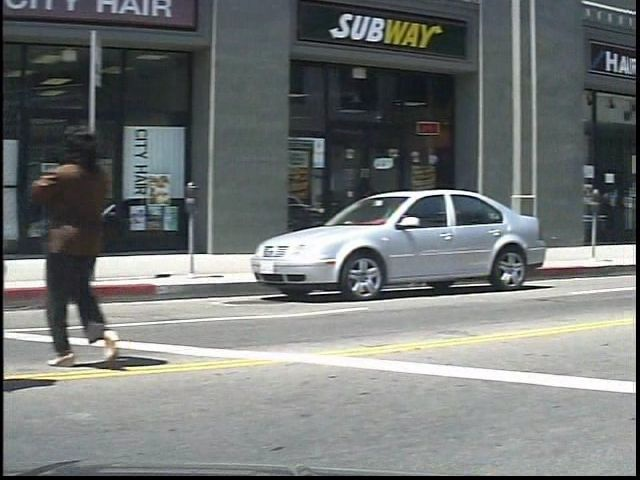person: (44, 119, 145, 369), (0, 115, 63, 389)
